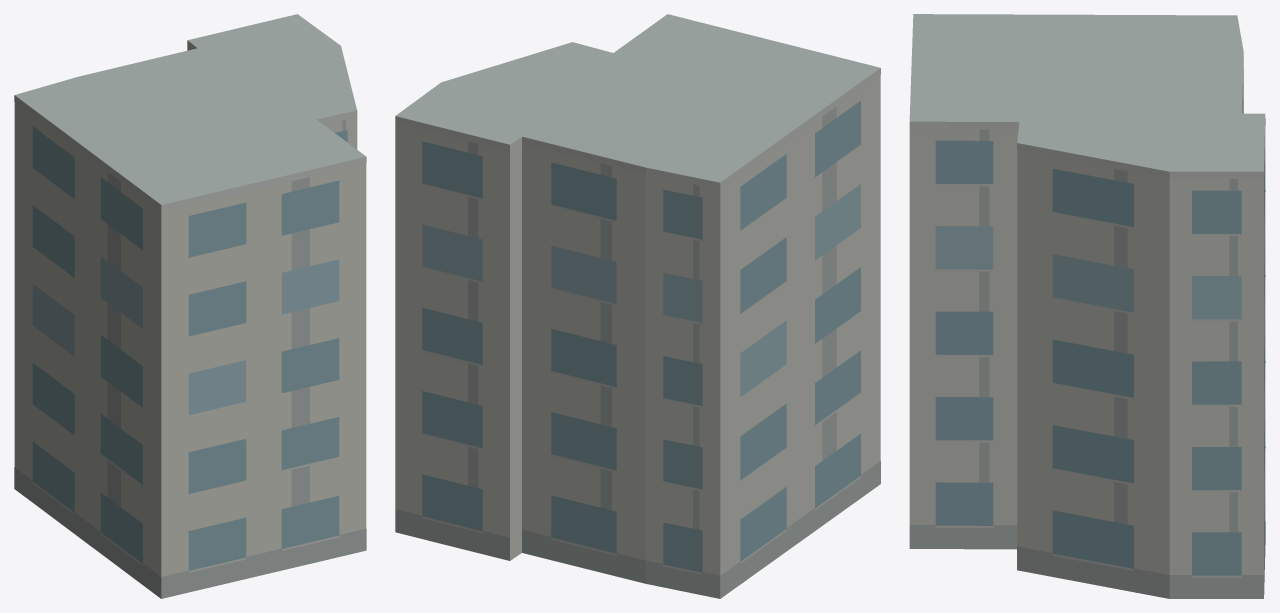
The model's file is survey-upis-32764212.glb.
The picture shows the model from 3 angles, left to right: view 1: azimuth 30°, elevation 25°; view 2: azimuth 150°, elevation 25°; view 3: azimuth 270°, elevation 25°; orthographic projection. The views are drawn at different scales.
Parts seen in each view (by area): view 1: survey-upis-32764212.tmp; view 2: survey-upis-32764212.tmp; view 3: survey-upis-32764212.tmp.
Boxes of the visible parts, bbox=[...] form: survey-upis-32764212.tmp: bbox=[14, 14, 366, 598]; survey-upis-32764212.tmp: bbox=[395, 14, 880, 598]; survey-upis-32764212.tmp: bbox=[909, 14, 1265, 598].
Size of the model in its own units: 11.18 by 14.1 by 10.66.
